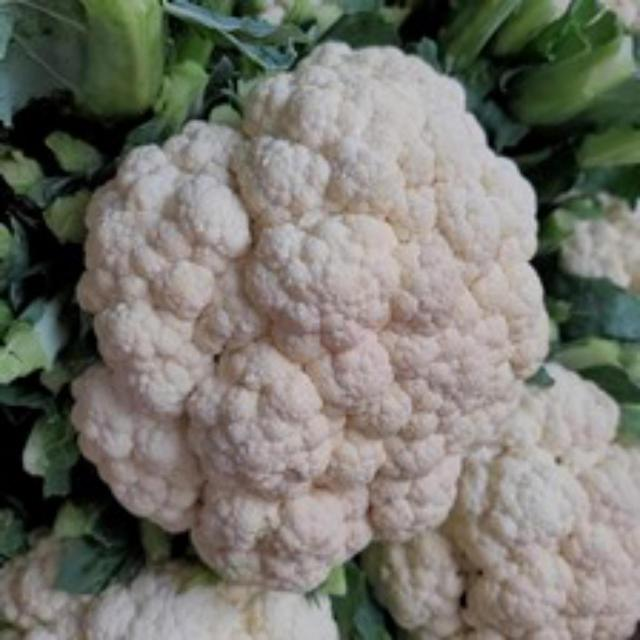cauliflower: (76, 42, 567, 603)
